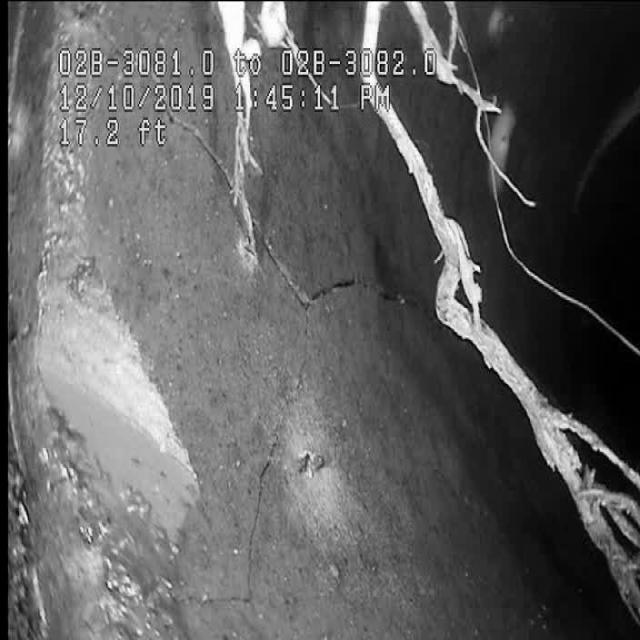Crack: (190, 121, 406, 326), (238, 357, 316, 587)
